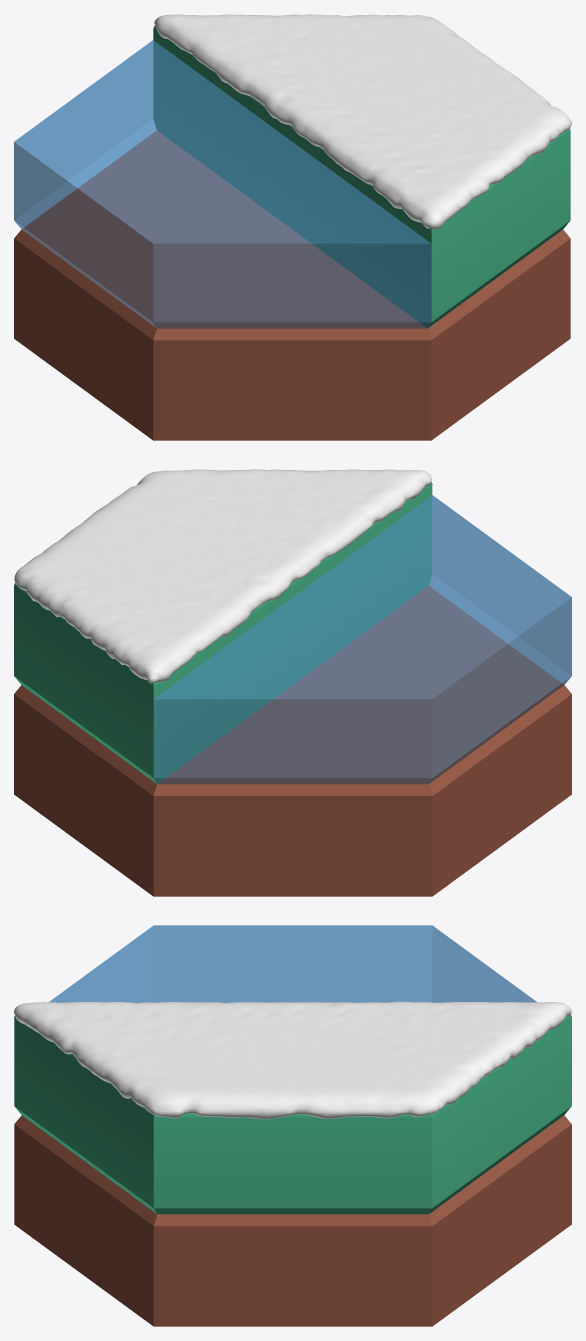
The model's file is hex_forest_waterB_detail.fbx.
3 views of the same model, one above another, from view 1: azimuth 30°, elevation 25°; view 2: azimuth 150°, elevation 25°; view 3: azimuth 270°, elevation 25° (orthographic).
Parts seen in each view (by area): view 1: hex_forest_waterB_detail.001, hex_forest_waterB_detail, SnowBall.001, hex_forest_waterB_detail.002; view 2: hex_forest_waterB_detail.001, hex_forest_waterB_detail, SnowBall.001, hex_forest_waterB_detail.002; view 3: hex_forest_waterB_detail.001, hex_forest_waterB_detail.002, SnowBall.001, hex_forest_waterB_detail.
Boxes of the visible parts, <box> form: hex_forest_waterB_detail.001: <box>14,131,570,440</box>; hex_forest_waterB_detail: <box>14,40,431,328</box>; SnowBall.001: <box>154,14,571,229</box>; hex_forest_waterB_detail.002: <box>153,25,570,328</box>; hex_forest_waterB_detail.001: <box>14,586,571,896</box>; hex_forest_waterB_detail: <box>153,495,571,784</box>; SnowBall.001: <box>14,469,431,683</box>; hex_forest_waterB_detail.002: <box>14,482,432,783</box>; hex_forest_waterB_detail.001: <box>14,1115,571,1326</box>; hex_forest_waterB_detail.002: <box>14,1014,571,1214</box>; SnowBall.001: <box>14,1001,571,1119</box>; hex_forest_waterB_detail: <box>49,925,536,1002</box>.
Size of the model in its own units: 202 by 104 by 231.
